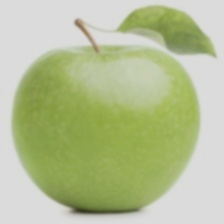apple: (6, 15, 178, 213)
